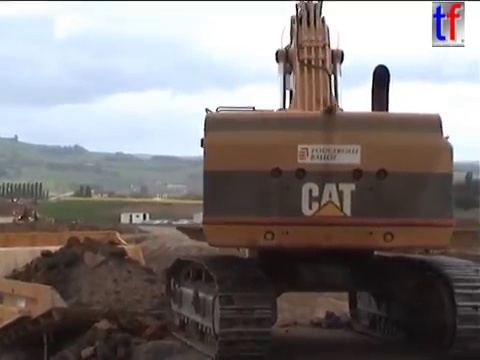excavator: (161, 1, 480, 360), (8, 205, 49, 228)
truck: (1, 227, 217, 360)
